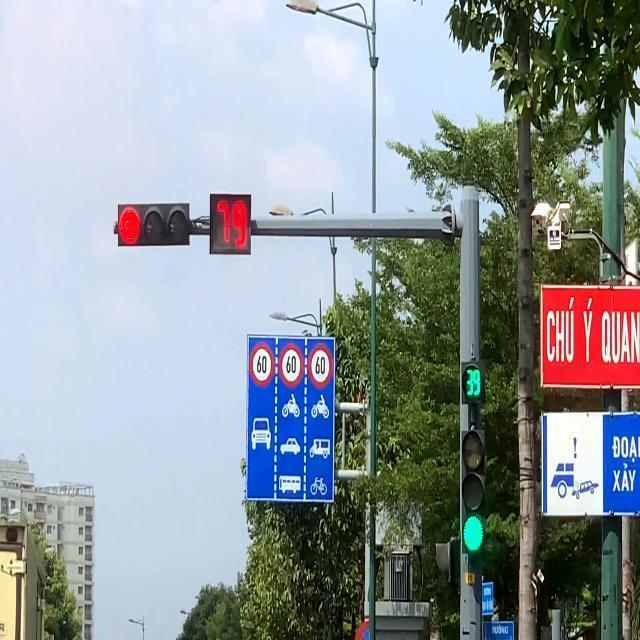127-toc-do-toi-da-60: (280, 343, 306, 389), (308, 344, 335, 388), (248, 342, 274, 387)
